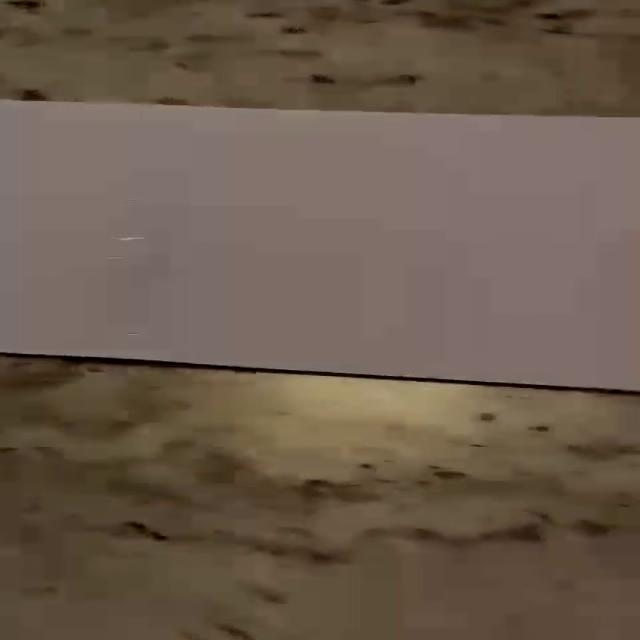road: (1, 101, 635, 391)
